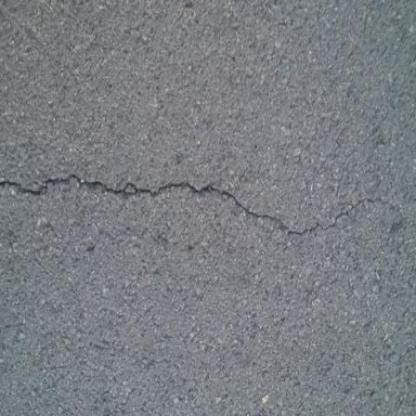Cracks: (0, 164, 401, 242)
